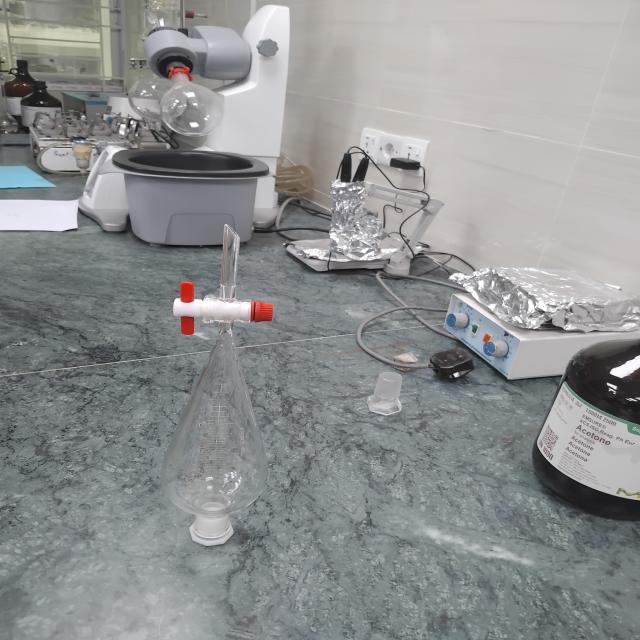Separating_Funnel: (138, 210, 313, 574)
